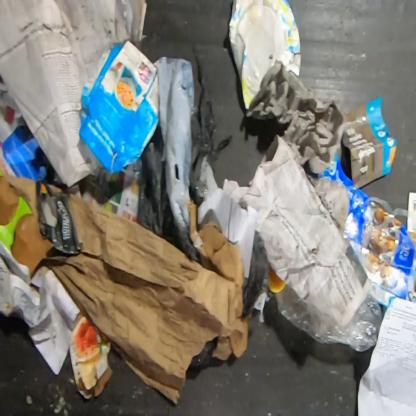cardboard: (316, 153, 416, 304), (78, 39, 159, 174), (228, 0, 302, 111), (0, 169, 53, 279), (68, 314, 116, 400), (37, 179, 84, 255), (0, 124, 54, 181)
soft_plastic: (137, 122, 202, 265), (274, 282, 384, 353), (152, 55, 195, 235), (190, 43, 233, 206), (187, 335, 218, 371), (367, 196, 408, 218)
